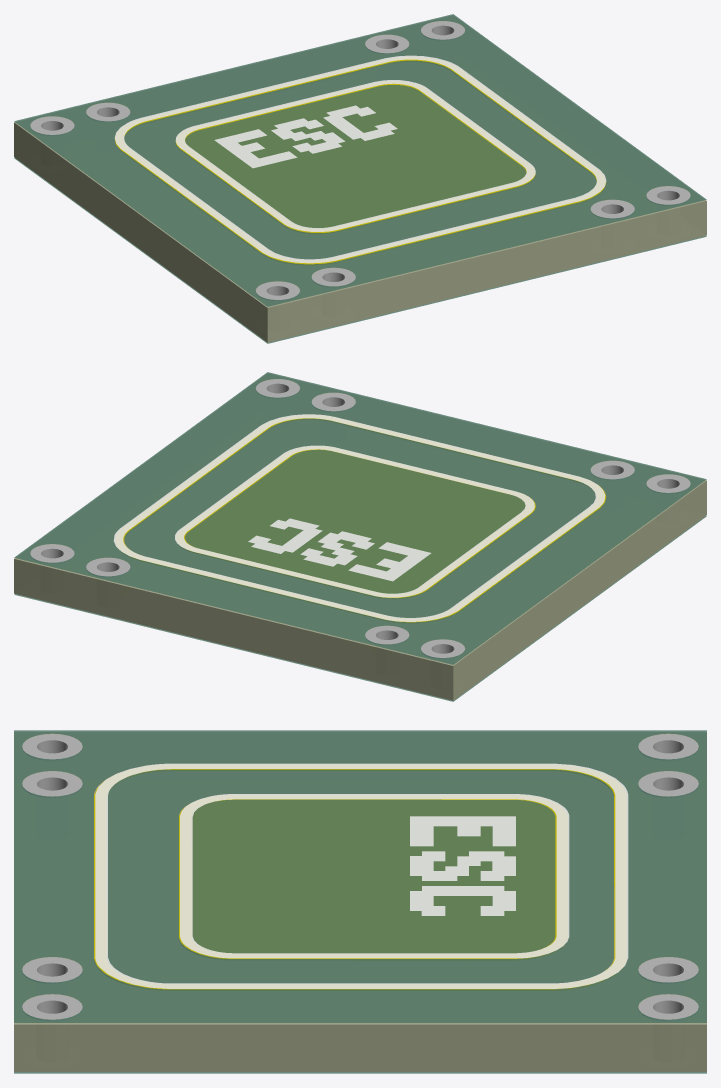
File: edu-esc-badge-education-security-v1-v2.glb
The picture shows the model from 3 angles, top to bottom: view 1: azimuth 30°, elevation 25°; view 2: azimuth 150°, elevation 25°; view 3: azimuth 270°, elevation 25°; orthographic projection. The views are drawn at different scales.
Parts seen in each view (by area): view 1: =>[0:1:1:6], =>[0:1:1:8], =>[0:1:1:2], =>[0:1:1:4]; view 2: =>[0:1:1:6], =>[0:1:1:8], =>[0:1:1:2], =>[0:1:1:4]; view 3: =>[0:1:1:6], =>[0:1:1:8], =>[0:1:1:2], =>[0:1:1:4].
Part boxes in pixels (x1,y1,x2,y2): =>[0:1:1:6]: (14,14,706,343); =>[0:1:1:8]: (14,16,706,342); =>[0:1:1:2]: (30,21,690,300); =>[0:1:1:4]: (114,55,606,263); =>[0:1:1:6]: (14,372,706,701); =>[0:1:1:8]: (14,374,706,700); =>[0:1:1:2]: (30,379,690,658); =>[0:1:1:4]: (113,414,605,621); =>[0:1:1:6]: (14,730,706,1073); =>[0:1:1:8]: (14,732,706,1071); =>[0:1:1:2]: (22,734,698,1020); =>[0:1:1:4]: (95,763,628,988).
Bounding box in the file's own units: 0.02 × 0.00166 × 0.02.
4 materials, 4 textured.
